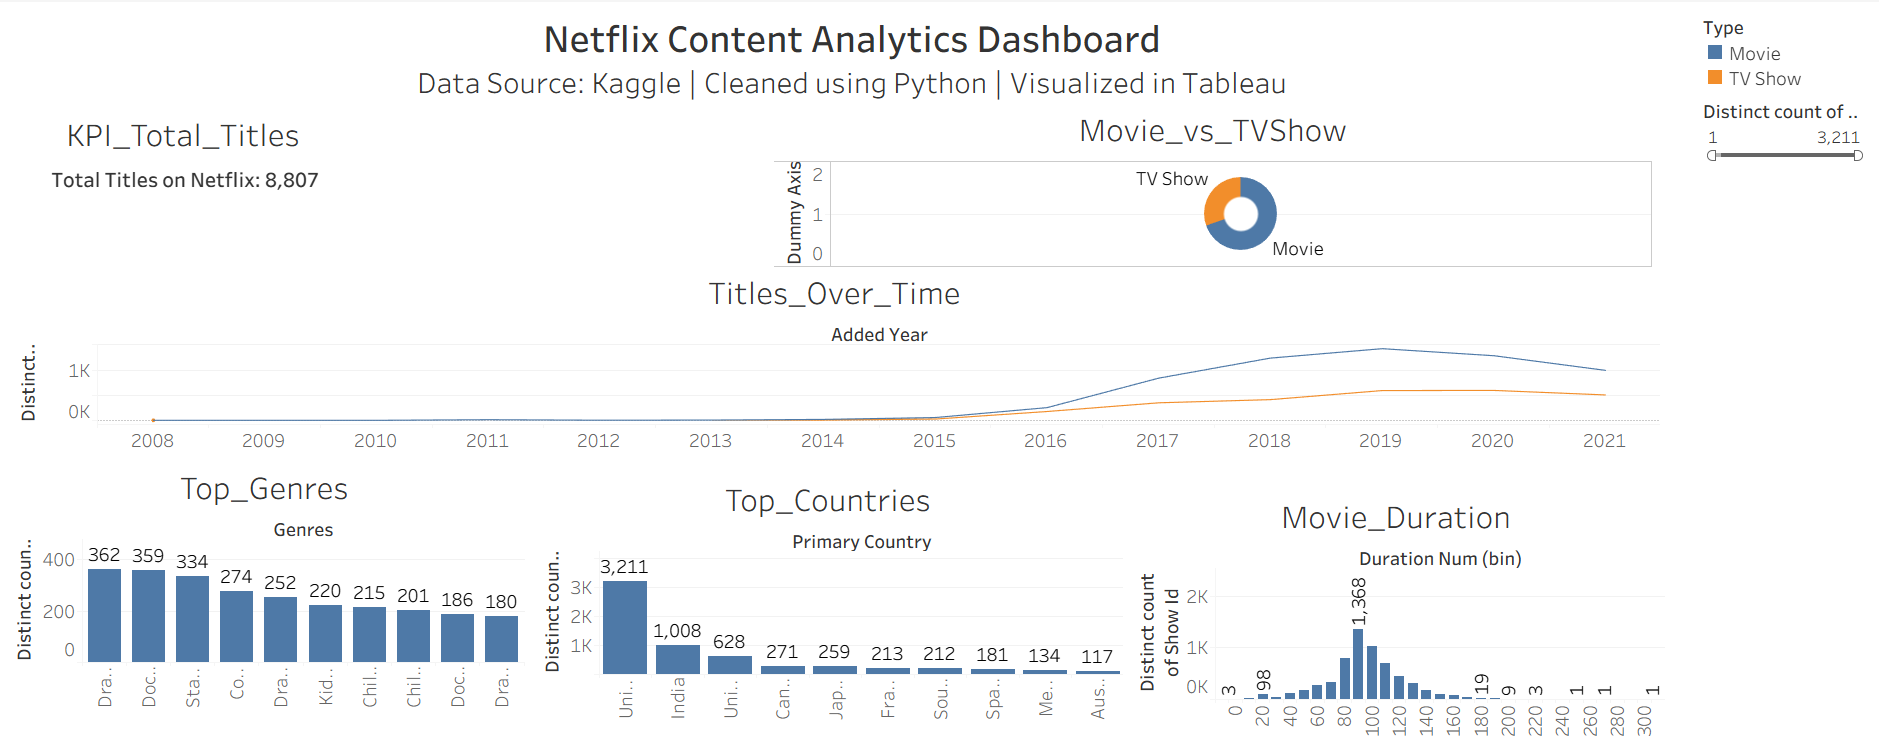

Layout of this report page (visuals, bound fields, positions):
{"tool":"tableau","page":{"name":"Netflix_Analytics_Dashboard","canvas":[1000,1000],"units":"permille","ordinal":0},"visuals":[{"type":"title","box":[4.2,10.7,900.1,127.3]},{"type":"legend","title":"Movie_vs_TVShow","param":"[federated.020lm501eljqjg1dwp73r11fezcy].[none:type:nk]","box":[904.4,10.7,91.4,112.6]},{"type":"filter","title":"Top_Countries","param":"[federated.020lm501eljqjg1dwp73r11fezcy].[ctd:show_id:qk]","box":[904.4,123.3,91.4,103.2]},{"type":"worksheet","title":"Movie_vs_TVShow","mark":"Pie","rows":["Calculation_1087156552826880","Calculation_1087156552826880"],"box":[412.7,136.7,466.8,218.5]},{"type":"worksheet","title":"KPI_Total_Titles","mark":"Automatic","box":[24.2,143.4,382.9,209.1]},{"type":"worksheet","title":"Titles_Over_Time","mark":"Line","rows":["show_id"],"cols":["added_year"],"box":[5.6,355.2,878.2,249.3]},{"type":"worksheet","title":"Top_Genres","mark":"Automatic","rows":["show_id"],"cols":["genres"],"box":[3.7,616.6,276.6,332.4]},{"type":"worksheet","title":"Top_Countries","mark":"Automatic","rows":["show_id"],"cols":["primary_country"],"box":[284,632.7,314.5,332.4]},{"type":"worksheet","title":"Movie_Duration","mark":"Automatic","rows":["show_id"],"cols":["Duration Num (bin)"],"box":[600.4,655.5,285.9,332.4]}]}

Visuals, with their boxes on the dashboard's canvas, which has no fixed pixel size, in thousandths of its width and height (x1, y1, x2, y2). These are canvas units, not pixel positions in the 1879x744 screenshot, which may show the page scaled, cropped or inside an application window:
title: detection(4, 11, 904, 138)
"Movie_vs_TVShow" legend: detection(904, 11, 996, 123)
"Top_Countries" filter: detection(904, 123, 996, 226)
"Movie_vs_TVShow" worksheet (Pie marks): detection(413, 137, 880, 355)
"KPI_Total_Titles" worksheet: detection(24, 143, 407, 352)
"Titles_Over_Time" worksheet (Line marks): detection(6, 355, 884, 604)
"Top_Genres" worksheet: detection(4, 617, 280, 949)
"Top_Countries" worksheet: detection(284, 633, 598, 965)
"Movie_Duration" worksheet: detection(600, 656, 886, 988)
